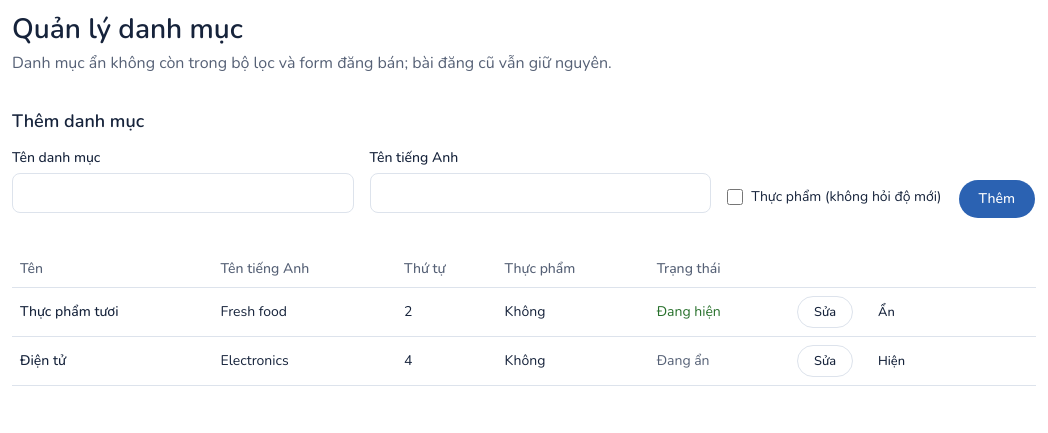
CategoryAdmin › edits a category in place
The image size is (1048, 433).
Expected: the table is shown, [12,251,1036,386]
Click the button with aria-label "Sửa Điện tử".
click(825, 361)  # box [797,345,853,377]
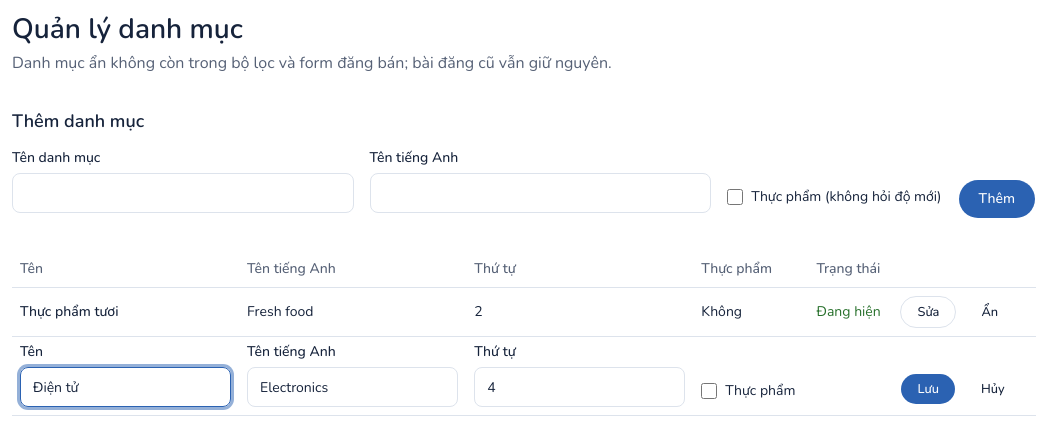
Now the field labelled "Tên" holds "Điện tử"
Now the field labelled "Tên tiếng Anh" below "Thực phẩm tươi" holds "Electronics", box [247,367,458,407]
Now the number field labelled "Thứ tự" holds "4", box [474,367,685,407]
Replace the text in the field labelled "Tên" with "Đồ điện tử" at (126, 387), box [20,367,231,407]
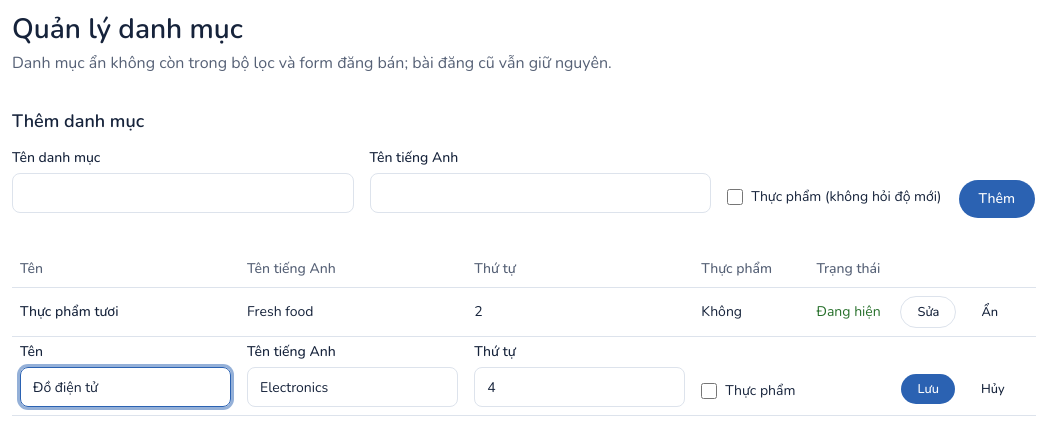
Click the button "Lưu".
click(928, 389)  # box [900,373,956,405]
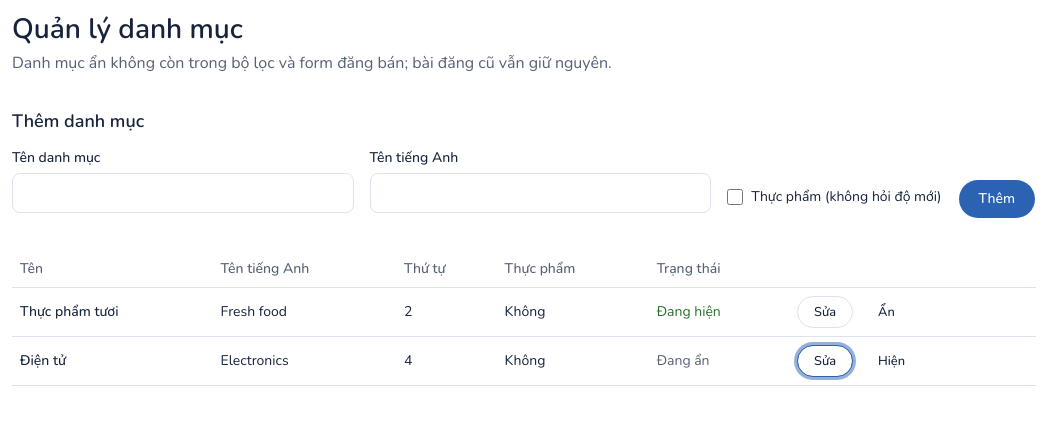
Now the button "Lưu" is gone
